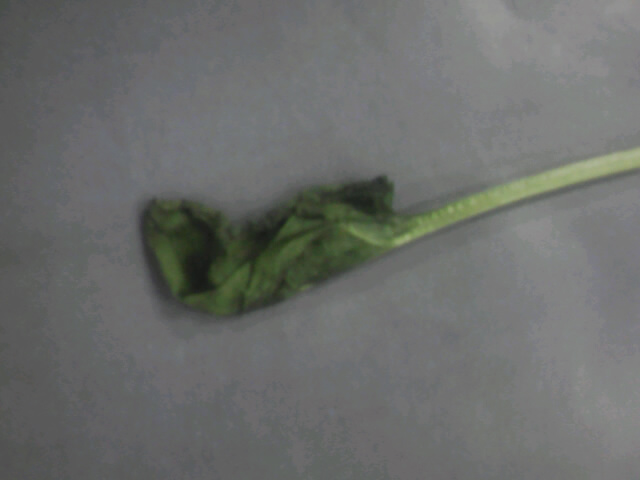yellow: (109, 161, 503, 321)
